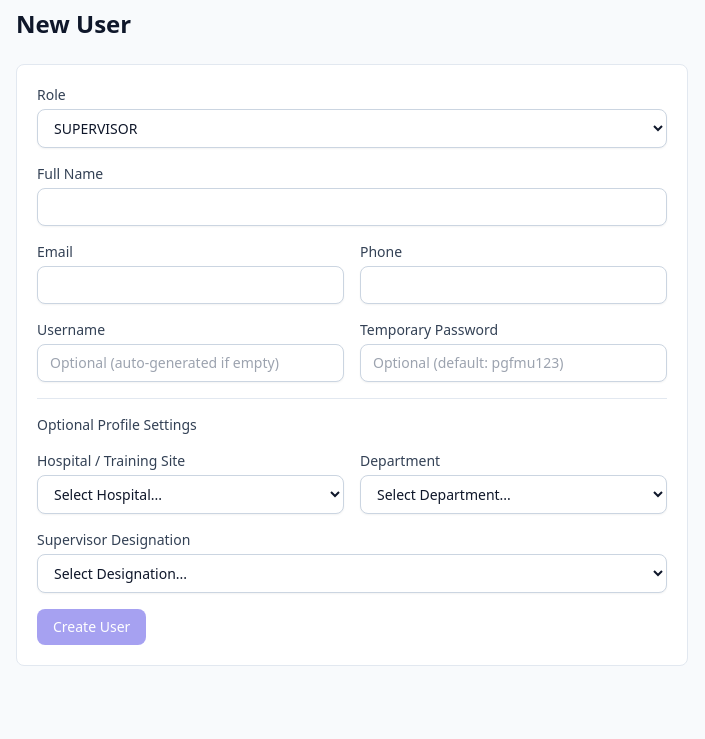
Test: creates SUPERVISOR with generated credentials and the selected role
Expected: the dropdown labelled "Role" shows "SUPERVISOR", x1=37 y1=109 x2=667 y2=148
Expected: the button "Create User" is disabled, x1=37 y1=609 x2=146 y2=645
Type "  Test   Person  " into the field labelled "Full Name" at (352, 207), box x1=37 y1=188 x2=667 y2=226
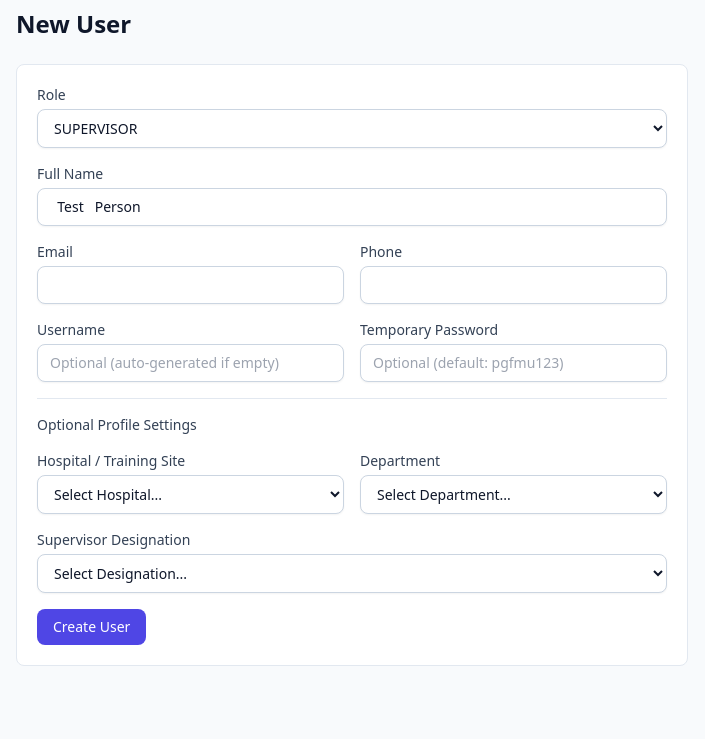
Click the button "Create User" at (92, 627), box x1=37 y1=609 x2=146 y2=645
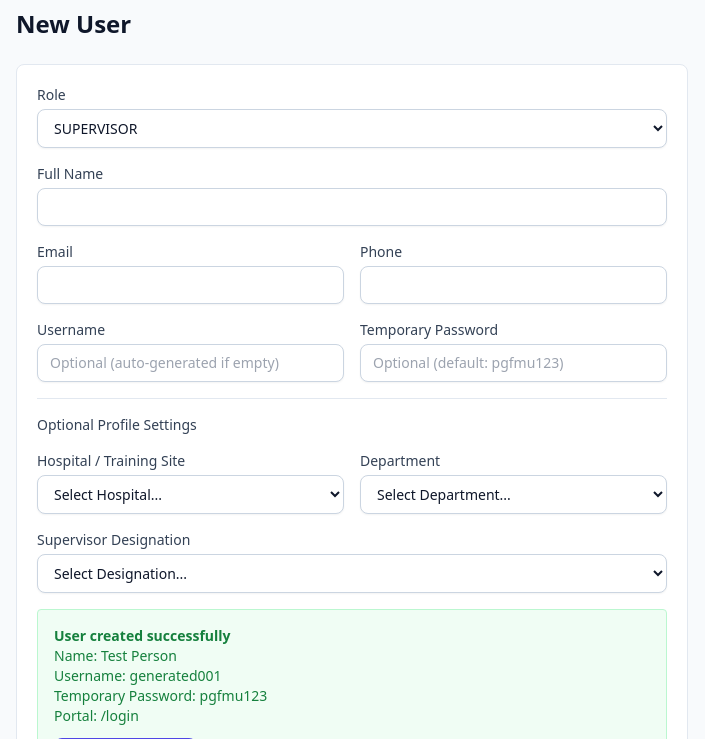
Result: the text "User created successfully" is shown at x1=54 y1=626 x2=230 y2=645
Result: the text "Temporary Password: pgfmu123" is shown at x1=54 y1=686 x2=267 y2=705
Result: the field labelled "Full Name" is empty at x1=37 y1=188 x2=667 y2=226
